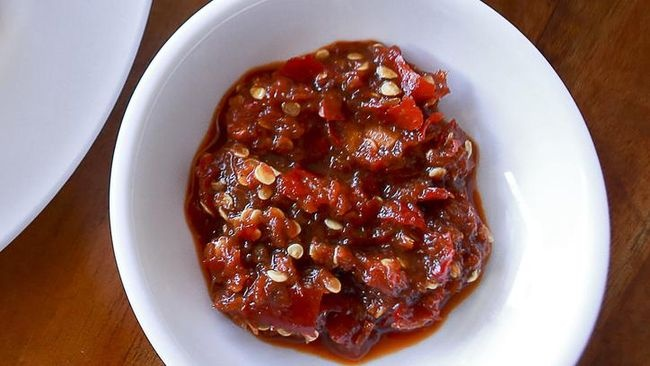sambal: (183, 37, 492, 361)
